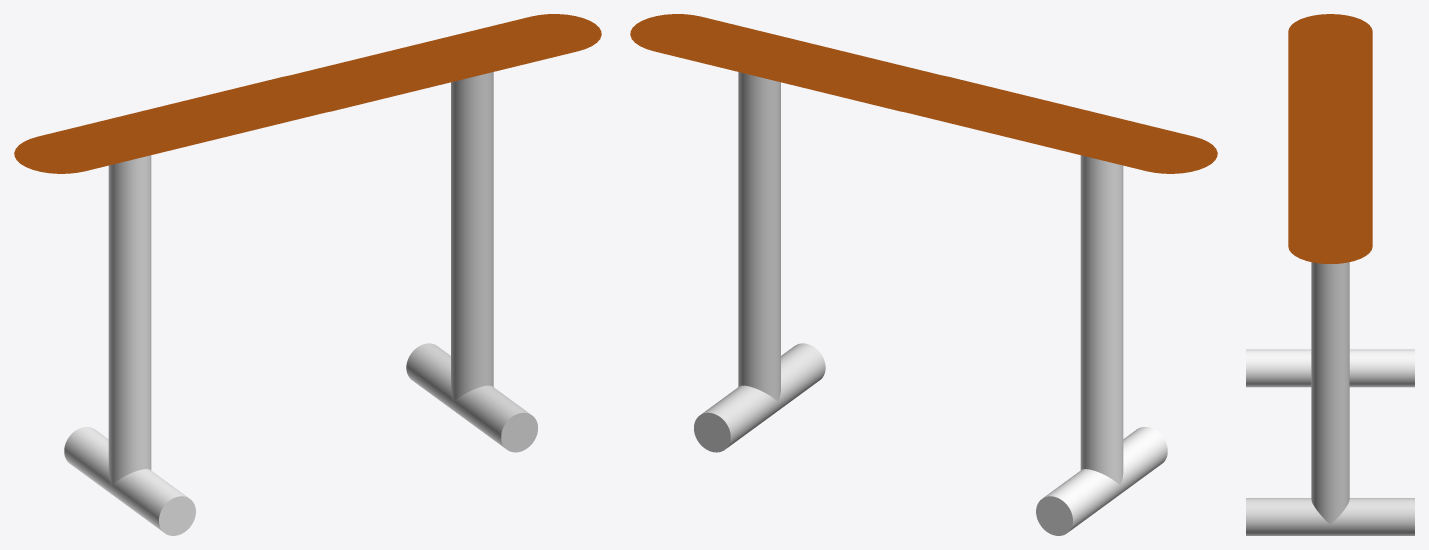
Rendered from path_marker.dae.
3 renders of one model, left to right at view 1: azimuth 30°, elevation 25°; view 2: azimuth 150°, elevation 25°; view 3: azimuth 270°, elevation 25°, orthographic. The views are drawn at different scales.
Parts seen in each view (by area): view 1: Cylinder.001, Cylinder.002, Circle.001, Circle.002; view 2: Cylinder.001, Cylinder.002, Circle.001, Circle.002; view 3: Cylinder.002, Circle.001, Circle.002, Cylinder.001.
Part boxes in pixels (left/top/right/bottom): Cylinder.001: left=64, top=155, right=195, bottom=535; Cylinder.002: left=406, top=72, right=537, bottom=452; Circle.001: left=14, top=74, right=355, bottom=173; Circle.002: left=292, top=14, right=601, bottom=111; Cylinder.001: left=1036, top=155, right=1167, bottom=535; Cylinder.002: left=694, top=72, right=825, bottom=452; Circle.001: left=876, top=74, right=1217, bottom=173; Circle.002: left=630, top=14, right=939, bottom=111; Cylinder.002: left=1246, top=262, right=1414, bottom=535; Circle.001: left=1288, top=14, right=1372, bottom=156; Circle.002: left=1288, top=140, right=1372, bottom=263; Cylinder.001: left=1246, top=349, right=1414, bottom=387.
Size of the model in its own units: 1.07 by 0.3048 by 0.6447.
